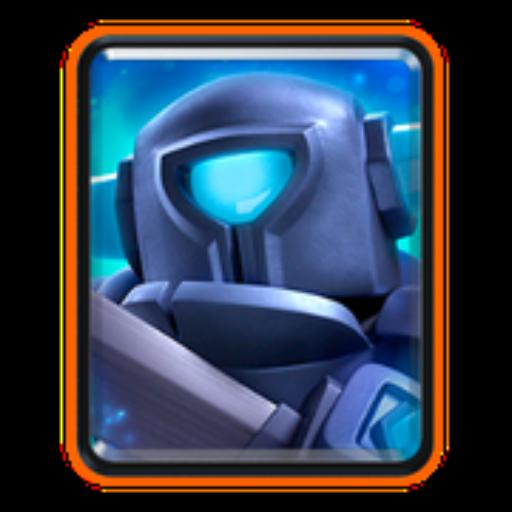mini-pekka: (78, 54, 424, 470)
